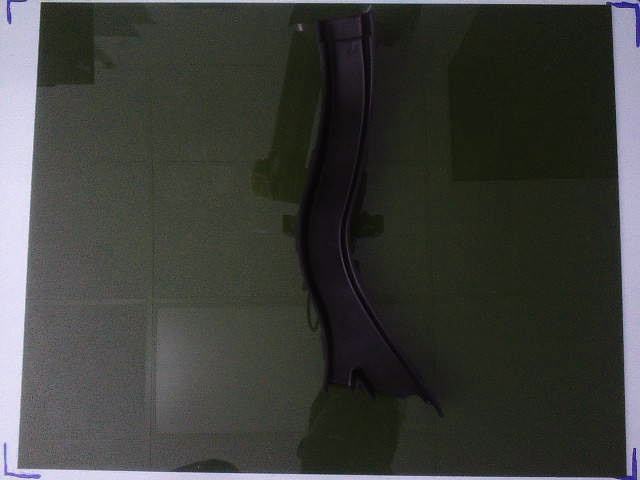887_B-Under: (297, 11, 445, 416)
